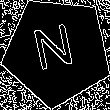N_S: (32, 22, 82, 80)
